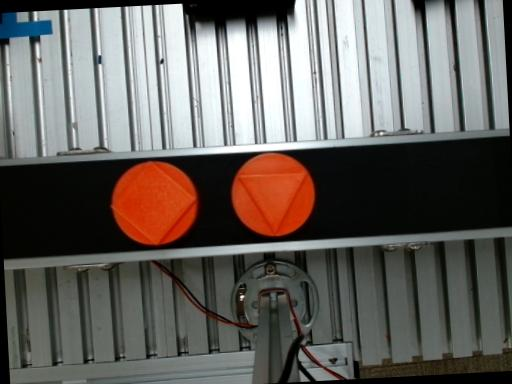Not_Square: (237, 173, 307, 235)
Orange_Waper: (110, 161, 198, 245), (232, 154, 314, 236)
Square: (110, 160, 197, 244)
